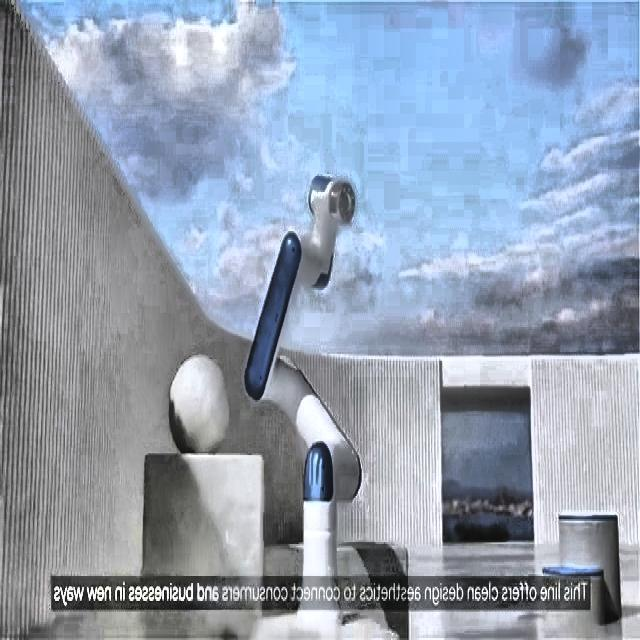robot: (244, 170, 363, 572)
